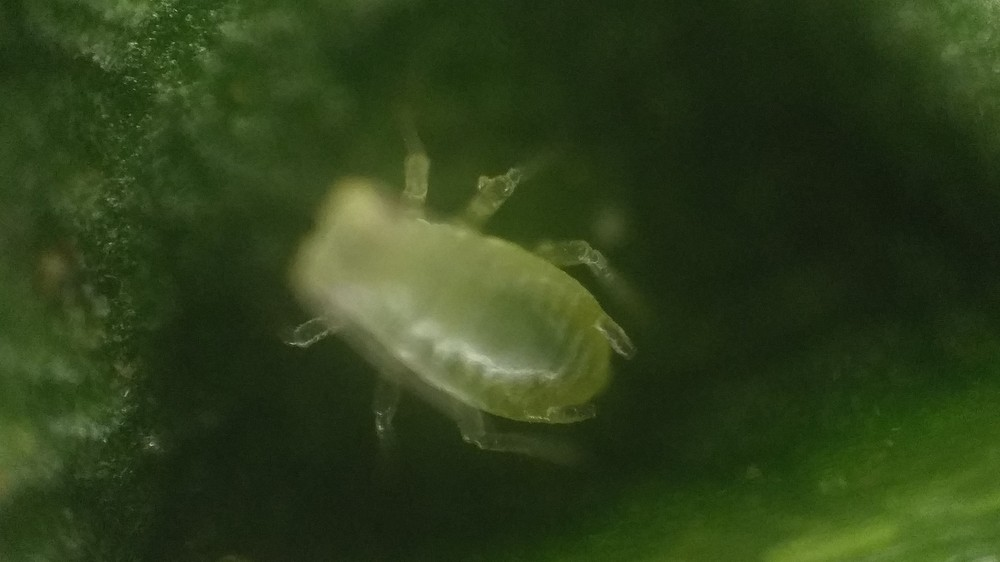Pulgon: (239, 109, 679, 497)
